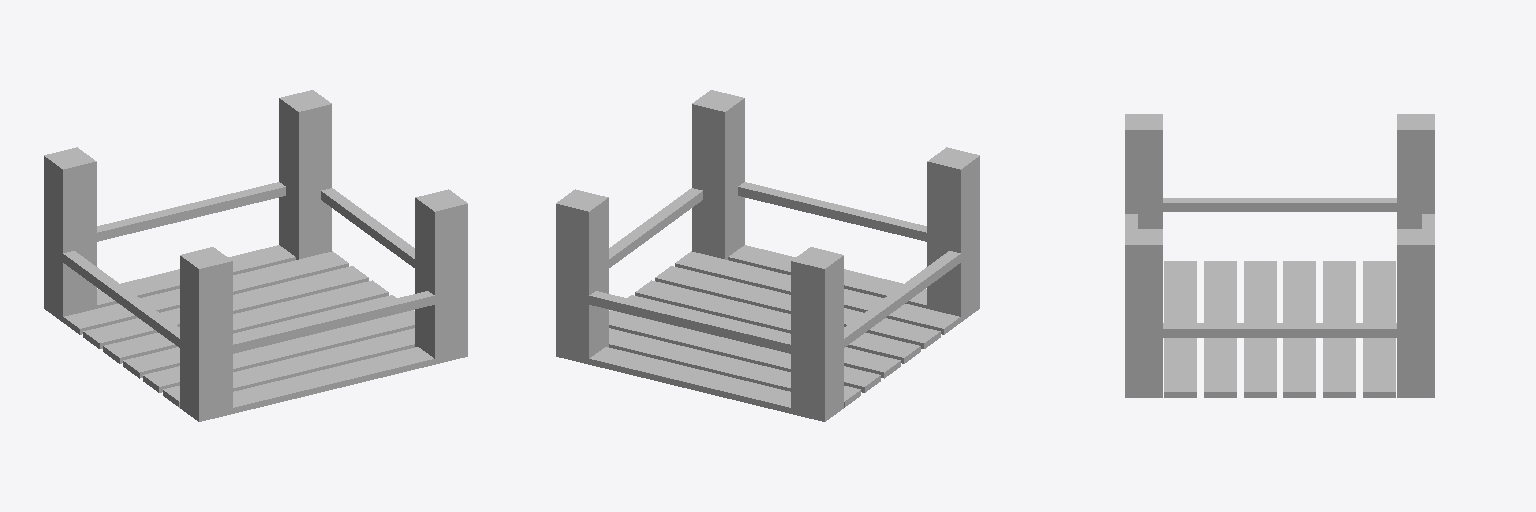
File: towerSquareMidOpenHalf.obj
3 views of the same model, side by side, from view 1: azimuth 30°, elevation 25°; view 2: azimuth 150°, elevation 25°; view 3: azimuth 270°, elevation 25° (orthographic).
Visible parts, largest first — view 1: towerSquareMidOpenHalf, plank 19, plank 17, plank 22, plank 18, plank 23, plank 20, rail 9, rail 10, rail 12, plank 16, rail 11 (+1 smaller); view 2: towerSquareMidOpenHalf, plank 16, plank 21, plank 18, plank 22, plank 20, plank 23, rail 10, rail 9, rail 12, plank 19, rail 11 (+1 smaller); view 3: towerSquareMidOpenHalf, plank 17, plank 18, plank 20, plank 21, plank 22, plank 23, rail 11, rail 12.
Boxes of the visible parts, x1,y1,x2,y2 form: towerSquareMidOpenHalf: [44, 90, 467, 421]; plank 19: [233, 347, 434, 413]; plank 17: [103, 280, 388, 363]; plank 22: [143, 310, 414, 392]; plank 18: [83, 266, 368, 348]; plank 23: [63, 251, 348, 334]; plank 20: [163, 328, 414, 407]; rail 9: [233, 291, 434, 353]; rail 10: [97, 182, 285, 241]; rail 12: [63, 251, 179, 347]; plank 16: [97, 245, 295, 308]; rail 11: [321, 188, 414, 267]; towerSquareMidOpenHalf: [556, 90, 979, 421]; plank 16: [589, 347, 790, 413]; plank 21: [635, 280, 920, 363]; plank 18: [609, 310, 880, 392]; plank 22: [655, 266, 940, 348]; plank 20: [675, 251, 960, 334]; plank 23: [609, 328, 860, 407]; rail 10: [589, 291, 790, 353]; rail 9: [738, 182, 926, 241]; rail 12: [844, 251, 960, 347]; plank 19: [728, 245, 926, 308]; rail 11: [609, 188, 702, 267]; towerSquareMidOpenHalf: [1125, 114, 1434, 397]; plank 17: [1283, 261, 1315, 397]; plank 18: [1323, 261, 1355, 397]; plank 20: [1164, 261, 1196, 397]; plank 21: [1244, 261, 1276, 397]; plank 22: [1204, 261, 1236, 397]; plank 23: [1363, 261, 1395, 397]; rail 11: [1163, 323, 1396, 337]; rail 12: [1163, 198, 1396, 211].
Bounding box in the file's own units: 9.3 × 5.05 × 9.3.